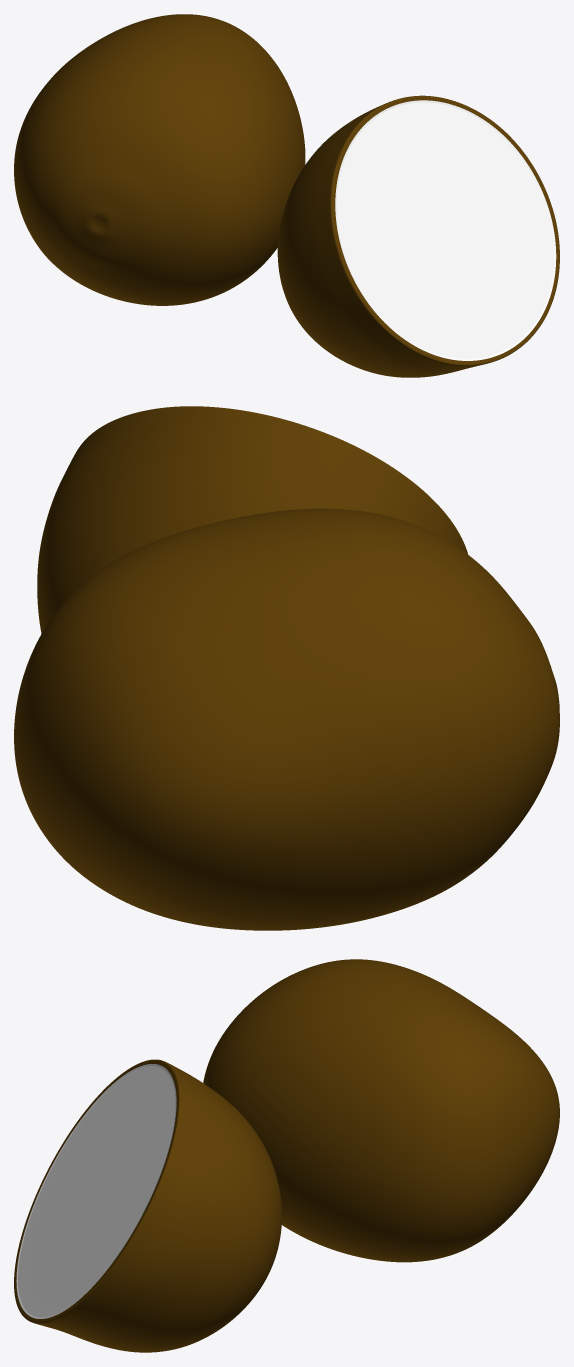
File: Kiwi.glb
3 renders of one model, top to bottom at view 1: azimuth 30°, elevation 25°; view 2: azimuth 150°, elevation 25°; view 3: azimuth 270°, elevation 25°, orthographic. The views are drawn at different scales.
Visible parts, largest first — view 1: Roundcube.003, Roundcube.006; view 2: Roundcube.003, Roundcube.006; view 3: Roundcube.003, Roundcube.006.
Boxes of the visible parts, x1=… form: Roundcube.003: x1=14, y1=14, x2=305, y2=305; Roundcube.006: x1=277, y1=95, x2=559, y2=377; Roundcube.003: x1=14, y1=508, x2=559, y2=930; Roundcube.006: x1=37, y1=406, x2=467, y2=633; Roundcube.003: x1=203, y1=959, x2=559, y2=1262; Roundcube.006: x1=14, y1=1059, x2=281, y2=1352.
Bounding box in the file's own units: 6.19 × 4.01 × 6.87.
3 materials, 1 textured.
